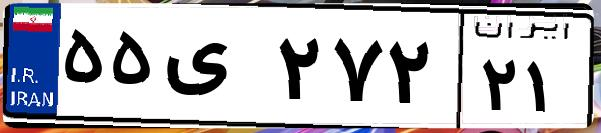1: (525, 38, 570, 115)
2: (270, 28, 330, 110), (385, 28, 445, 110), (475, 38, 525, 113)
5: (57, 26, 110, 100), (110, 28, 158, 98)
7: (330, 28, 385, 110)
ی: (158, 20, 270, 120)
